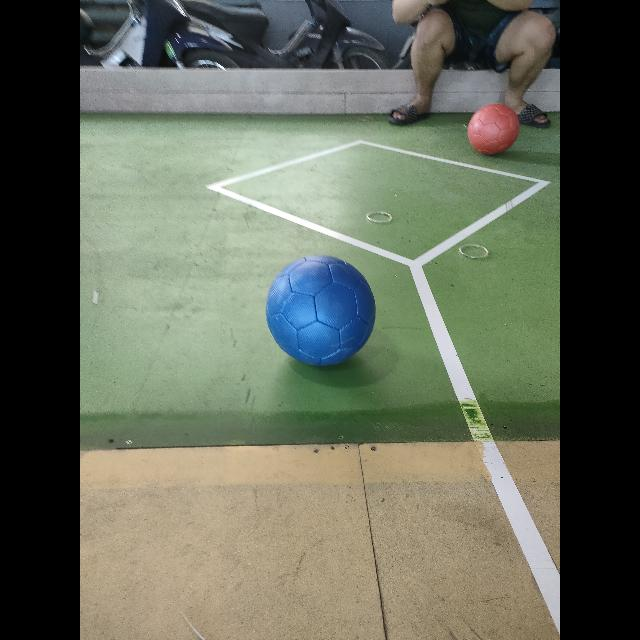B: (266, 256, 374, 364)
R: (468, 104, 518, 154)
